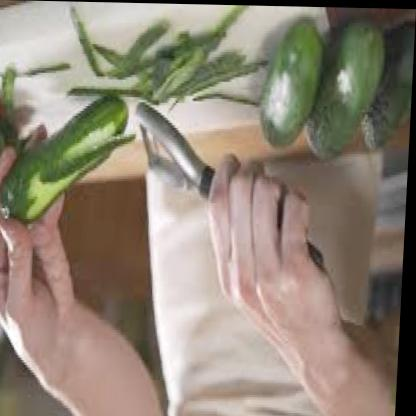Disposable tableware: (0, 0, 416, 304)
